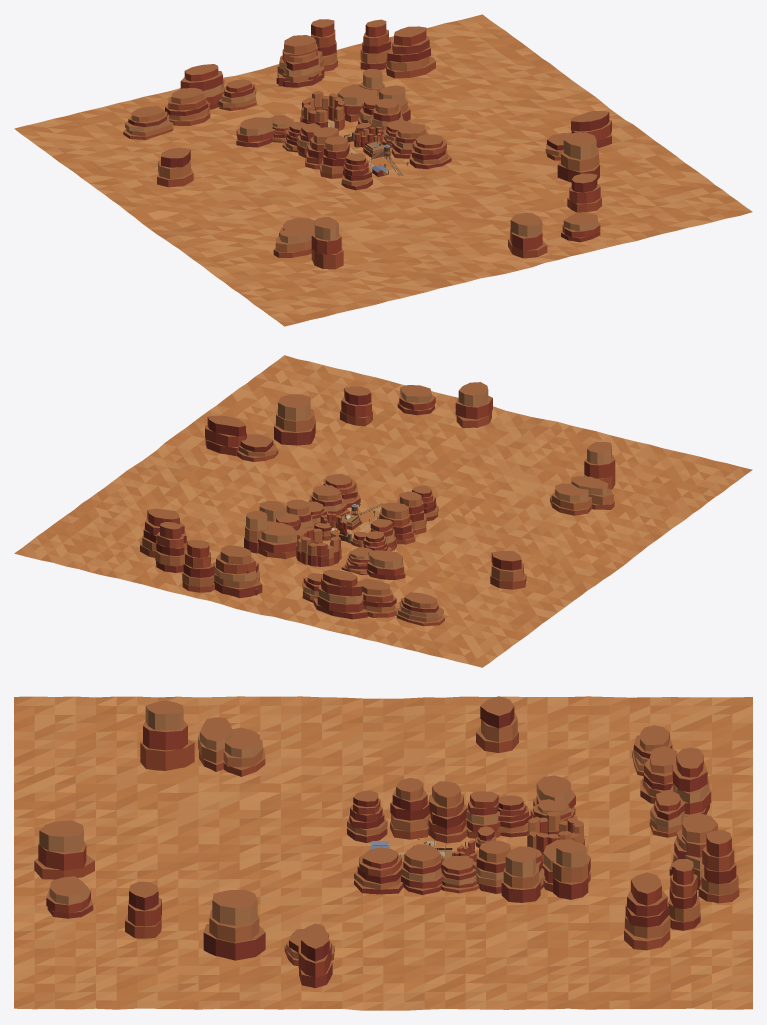
The model's file is canyon.glb.
3 renders of one model, top to bottom at view 1: azimuth 30°, elevation 25°; view 2: azimuth 150°, elevation 25°; view 3: azimuth 270°, elevation 25°, orthographic. The views are drawn at different scales.
Parts seen in each view (by area): view 1: canyon; view 2: canyon; view 3: canyon.
Boxes of the visible parts, bbox=[...] form: canyon: bbox=[14, 14, 752, 326]; canyon: bbox=[14, 355, 752, 667]; canyon: bbox=[14, 696, 752, 1010].
Size of what is drawn, in the model's own units: 432 by 38.21 by 432.
